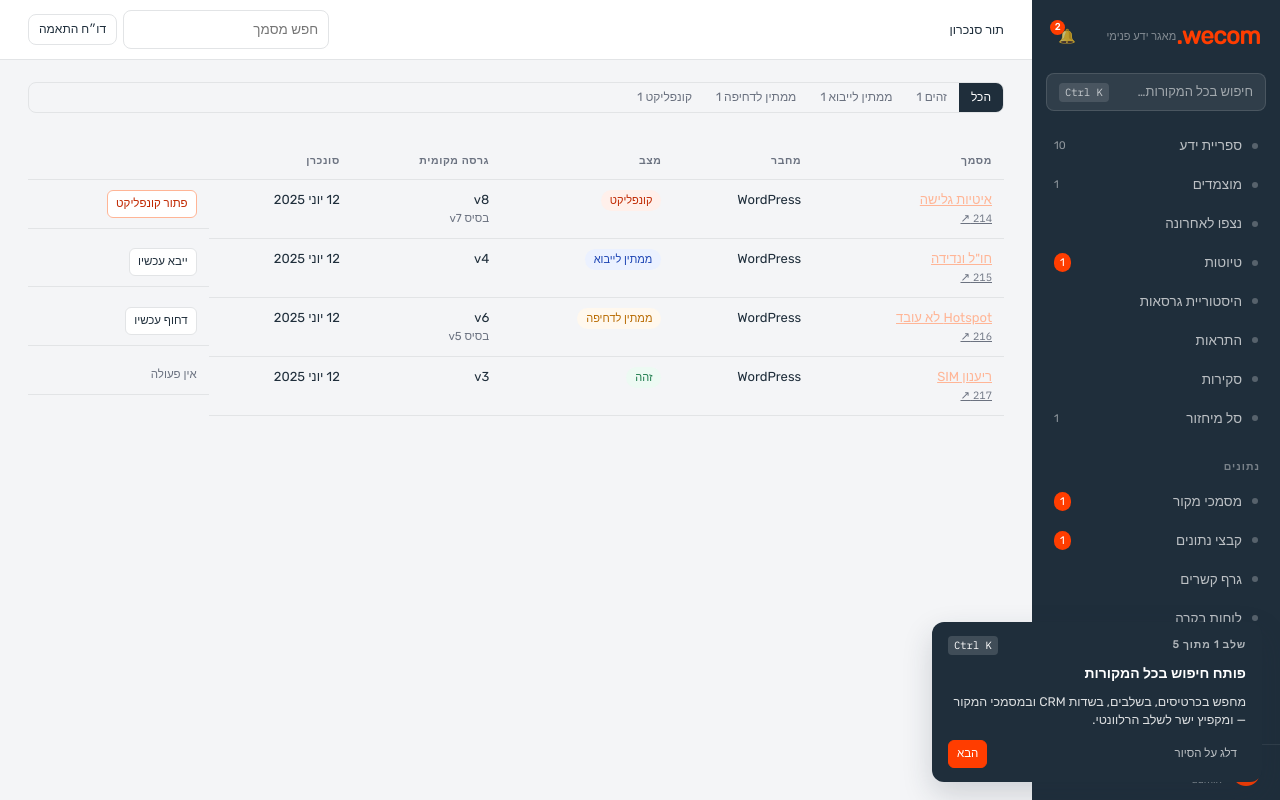
sync · queue › imports one row and reports the direction it moved
Click the button "ייבא עכשיו" at (163, 262), box [129,248,197,276]
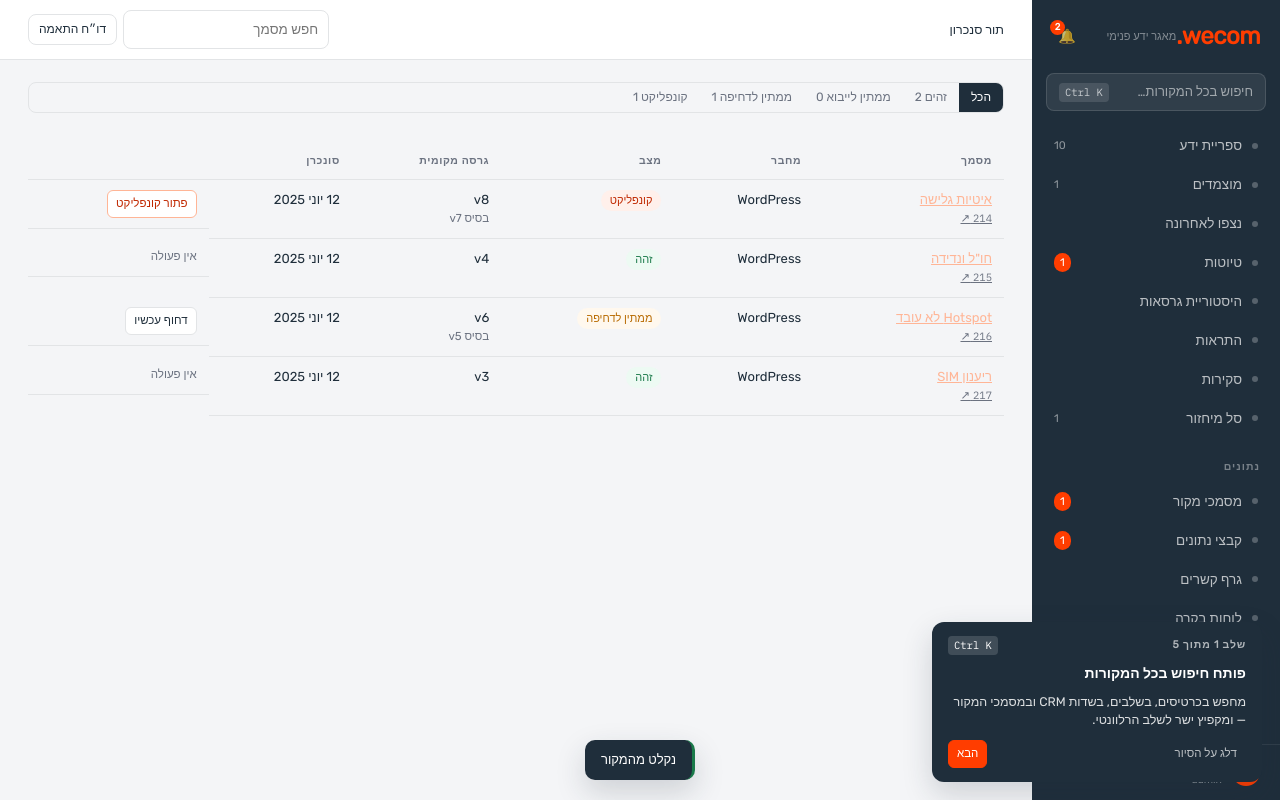
Now the text "נקלט מהמקור" is shown, box [601,750,676,770]
